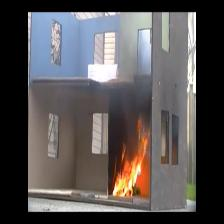fire: (117, 149, 144, 197)
smoke: (112, 85, 147, 118)
